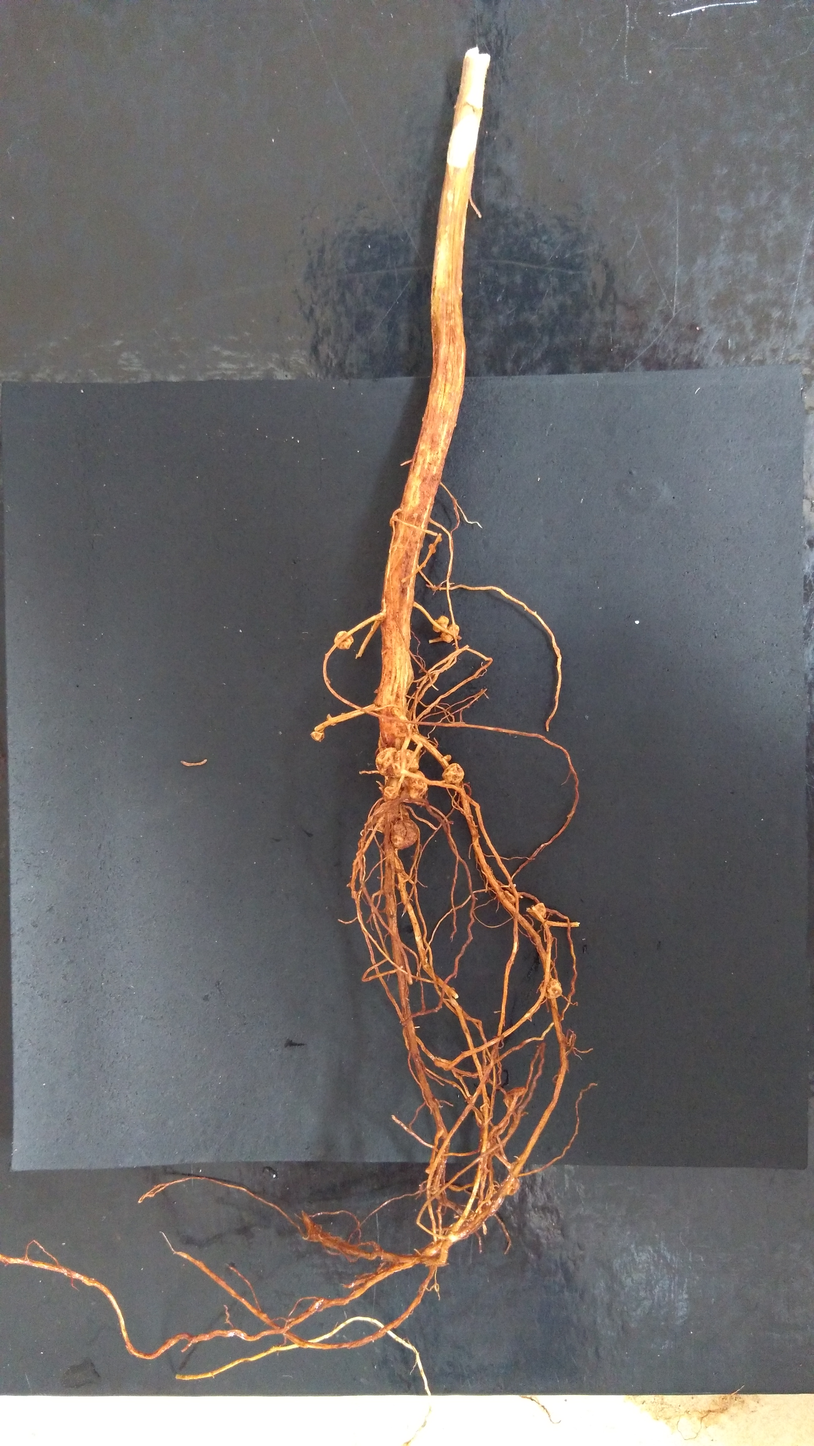nodule: (376, 801, 410, 835), (400, 768, 428, 805), (390, 817, 419, 849), (375, 747, 402, 778), (395, 749, 419, 772), (441, 763, 465, 786), (539, 978, 563, 999), (500, 1174, 522, 1196), (440, 623, 459, 644), (334, 631, 354, 650), (527, 902, 546, 919), (432, 615, 449, 633), (382, 785, 399, 802), (504, 1086, 526, 1099), (499, 889, 517, 903), (310, 730, 325, 742), (426, 1165, 436, 1174), (428, 543, 436, 554), (443, 755, 452, 762), (393, 514, 398, 521), (373, 689, 379, 693), (422, 563, 426, 567)
